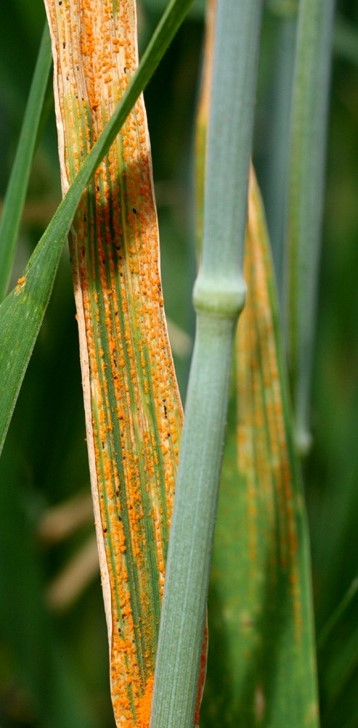Leaf Rust: (64, 36, 175, 632)
